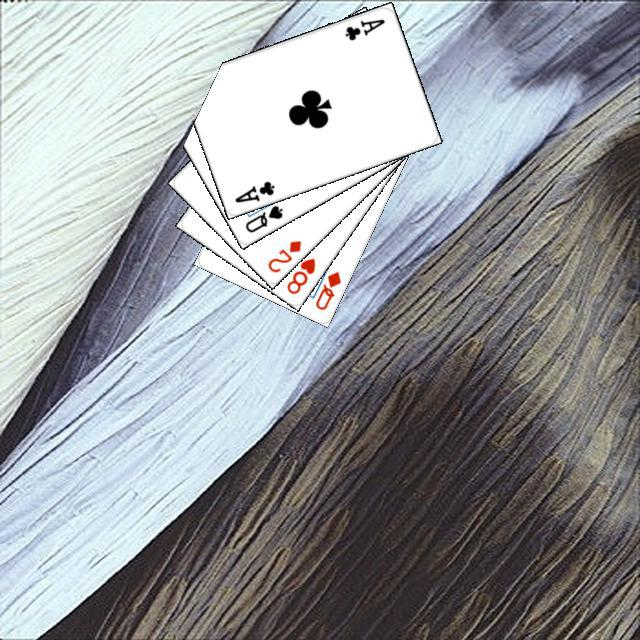2d: (263, 235, 303, 274)
8h: (282, 253, 317, 296)
Ac: (229, 176, 276, 204), (340, 14, 387, 42)
Qd: (310, 266, 343, 312)
Qs: (240, 200, 285, 234)
